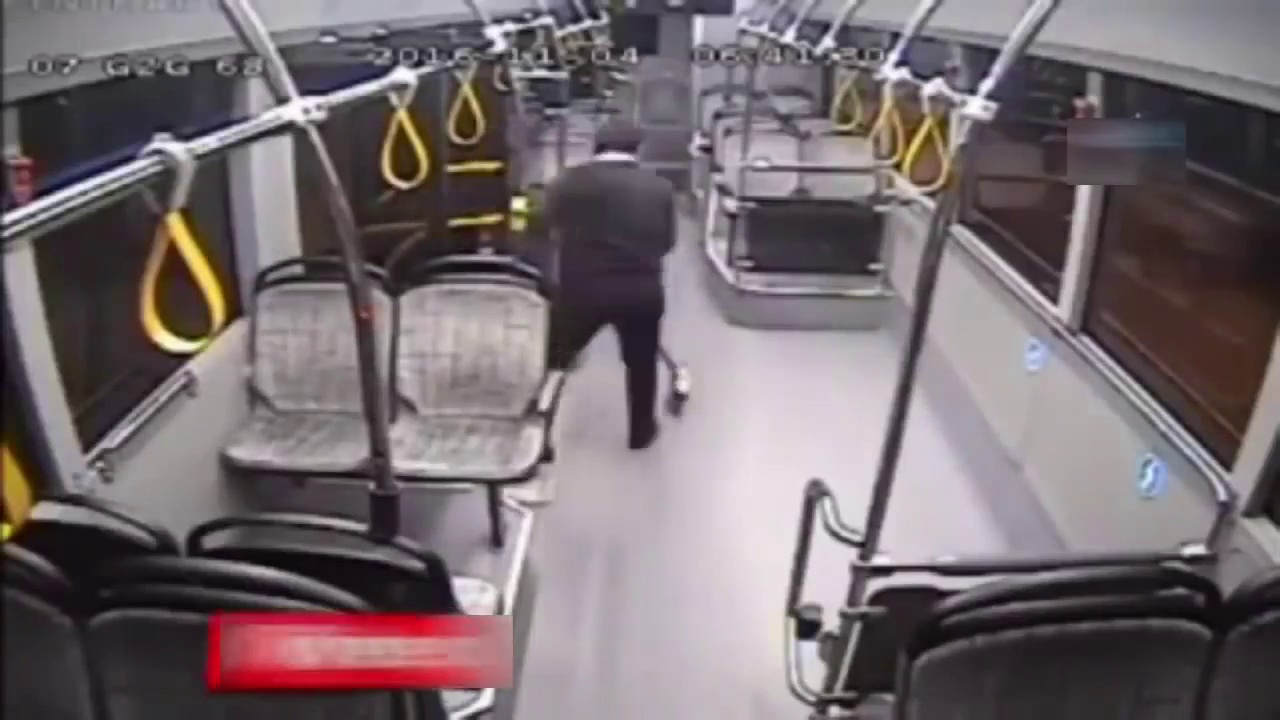normal: (492, 99, 705, 495)
